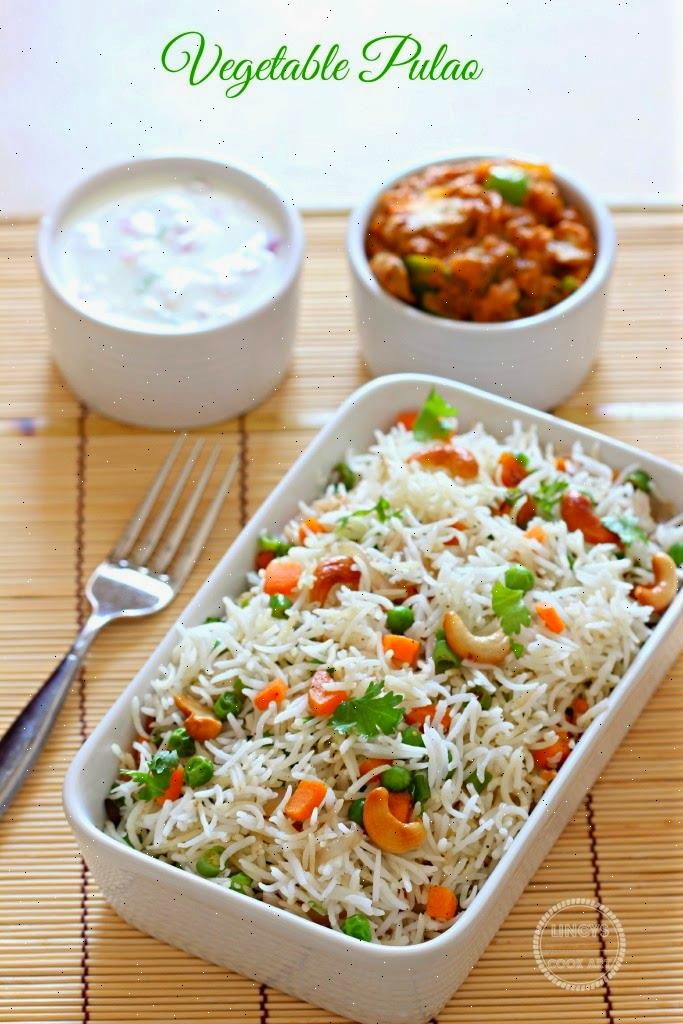veg-pulao: (96, 443, 633, 868)
yogurt: (61, 168, 281, 311)
